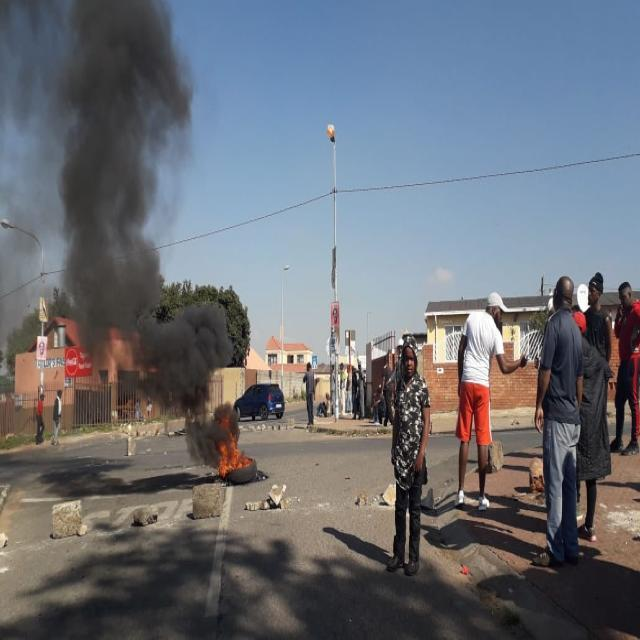Smoke: (1, 6, 163, 312), (168, 309, 224, 412)
